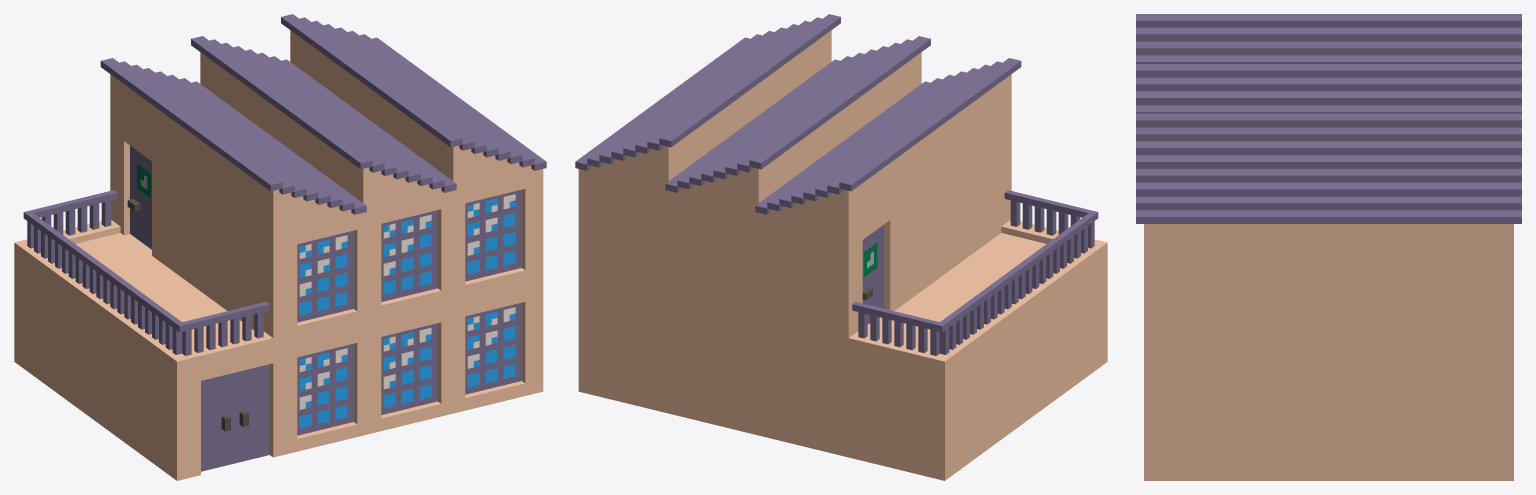
Rendered from factory_b.obj.
3 views of the same model, side by side, from view 1: azimuth 30°, elevation 25°; view 2: azimuth 150°, elevation 25°; view 3: azimuth 270°, elevation 25° (orthographic). The views are drawn at different scales.
Bounding box in the file's own units: 6.1 × 4.4 × 4.9.
Materials: 1 (1 with a texture image).
